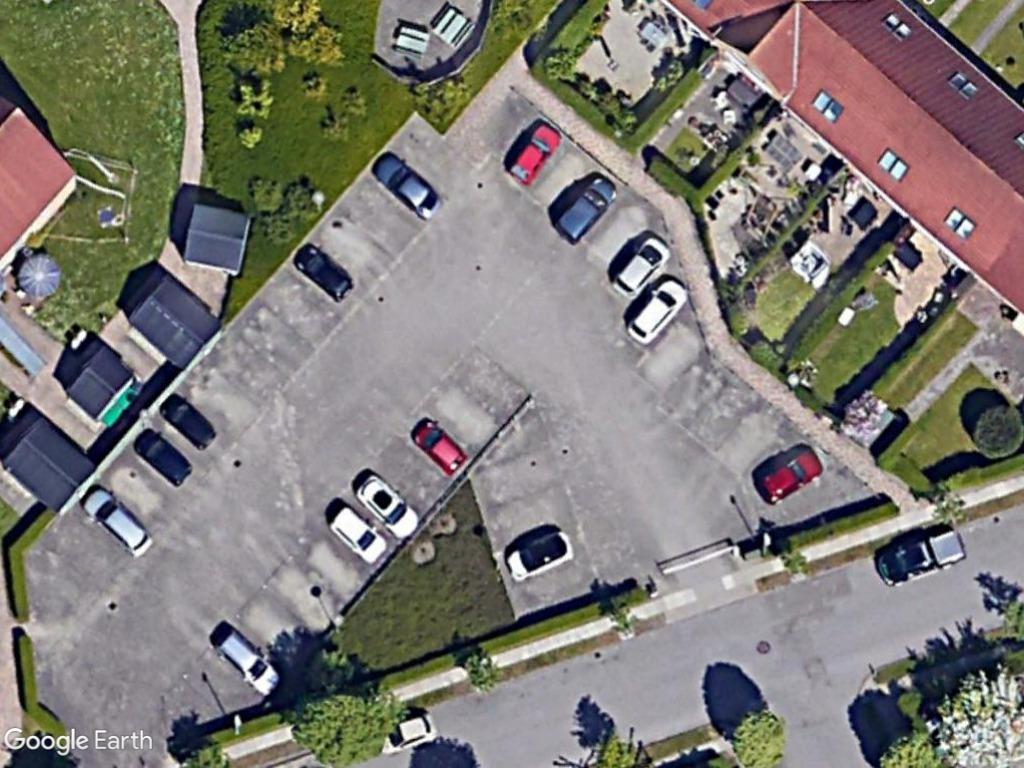car: (80, 482, 157, 562), (368, 152, 447, 222), (211, 627, 285, 700), (353, 466, 423, 542), (550, 172, 620, 246), (624, 277, 693, 347), (499, 526, 579, 584), (288, 240, 359, 305), (752, 444, 823, 508), (326, 501, 393, 568), (610, 233, 675, 302), (505, 118, 566, 188), (410, 413, 470, 478), (132, 427, 192, 487), (158, 389, 216, 450)
other: (869, 524, 975, 590)
